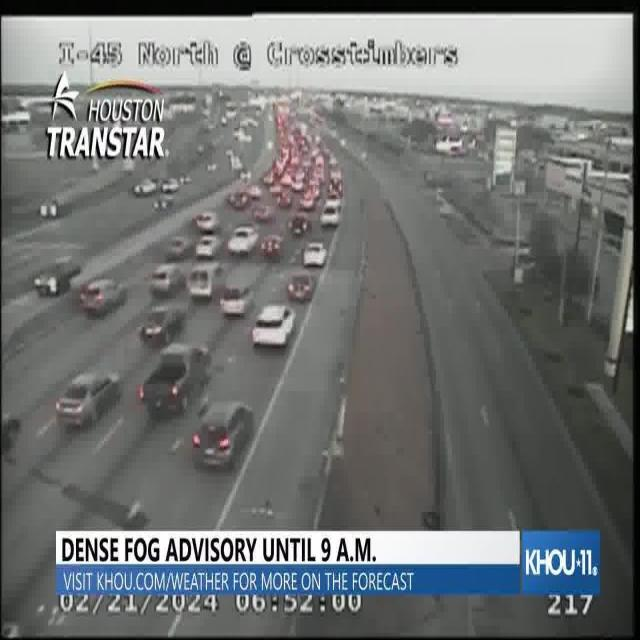Car: (54, 345, 123, 444), (141, 330, 208, 424), (193, 389, 260, 479), (78, 256, 125, 327), (33, 245, 79, 308), (132, 297, 182, 350), (254, 302, 296, 352), (217, 276, 259, 322), (149, 260, 188, 296), (256, 226, 288, 267), (192, 227, 224, 266), (285, 272, 315, 308), (225, 219, 256, 253), (161, 222, 192, 256), (36, 193, 66, 227), (300, 233, 327, 266), (132, 168, 158, 201), (318, 199, 344, 230), (225, 182, 252, 211), (192, 208, 220, 230), (286, 212, 308, 238), (160, 175, 180, 199), (252, 204, 274, 225), (274, 190, 294, 210)
Van: (189, 263, 225, 307)
